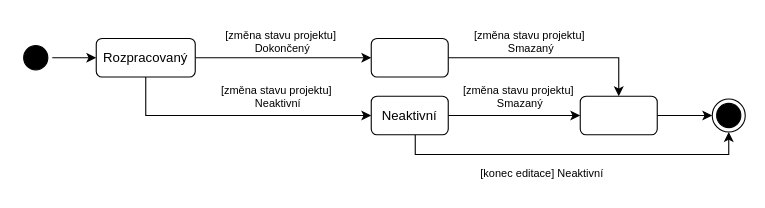
This 765x208 diagram has some shape labels left out. The shapes that lost their labels are listed below. From the top down, each one's box as (x1, y1, x2, y2) in pixels, then its label:
(370, 37, 448, 77): Dokončený
(579, 95, 657, 135): Smazaný
